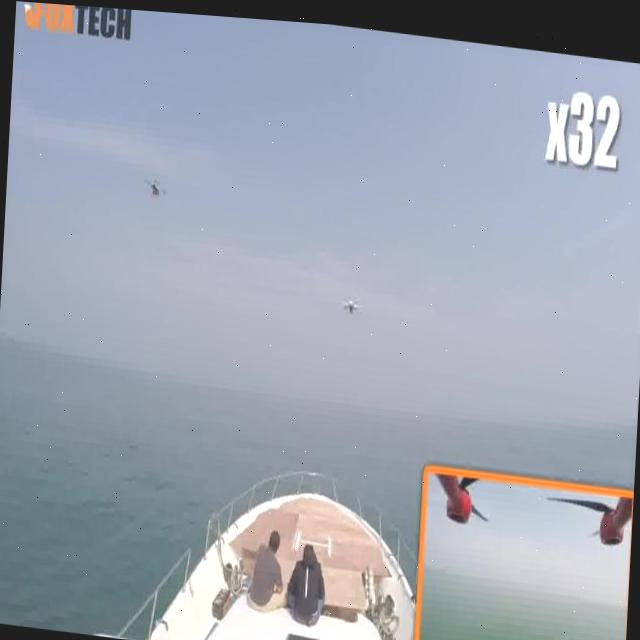drone: (340, 275, 366, 317), (142, 166, 170, 201)
